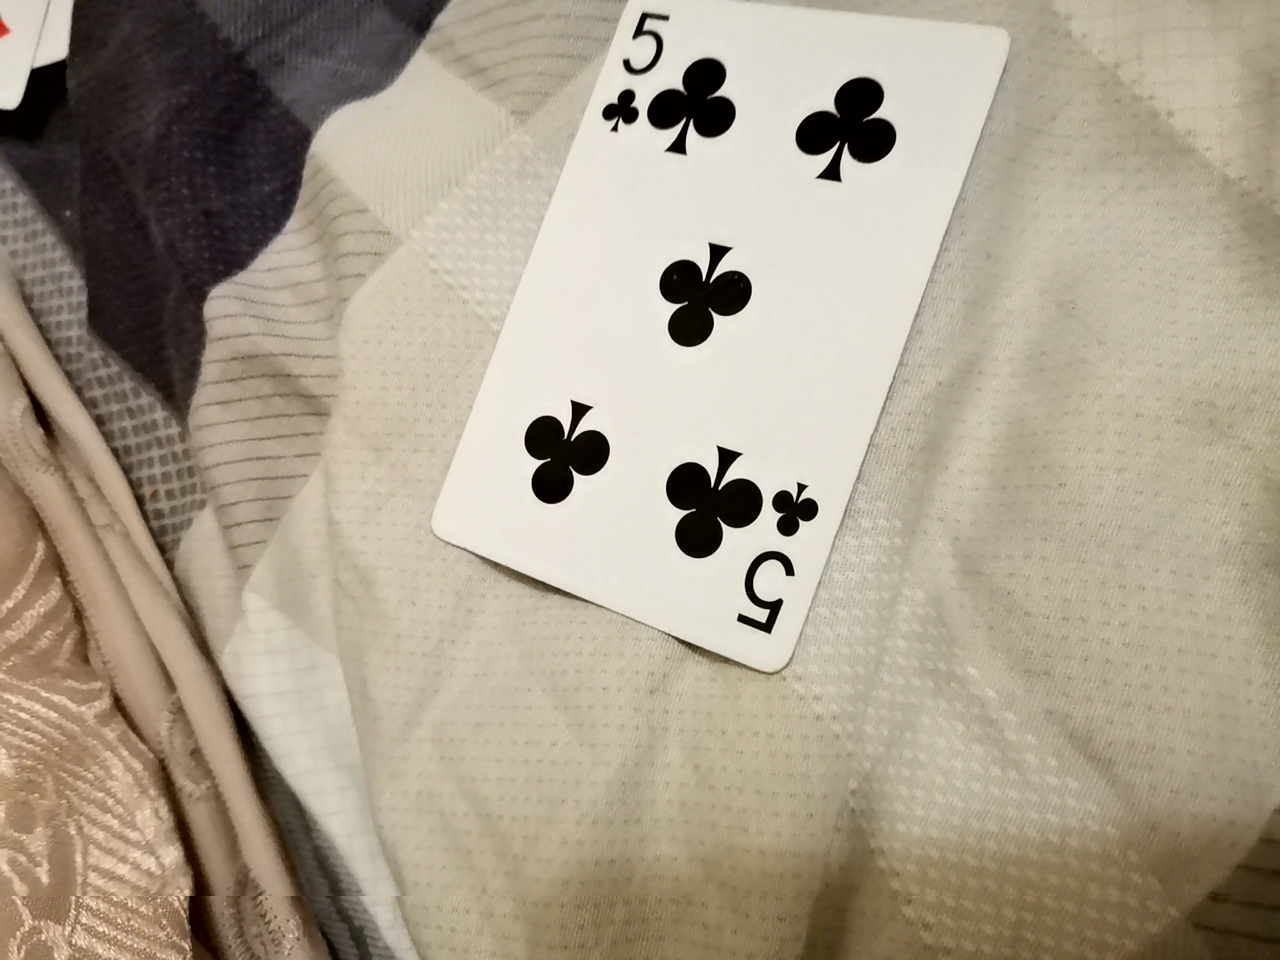mh 5: (429, 0, 1009, 681)
